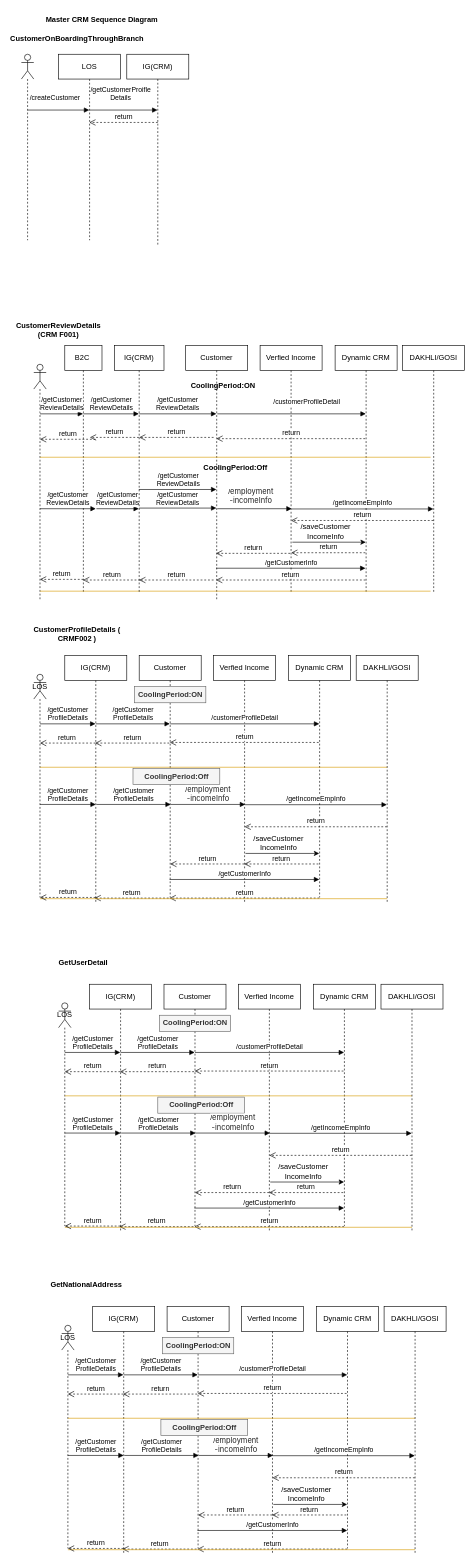
Some shapes in this 476 by 1566 pixel diagram are drawn without their labels. The box of each missing label's shape, as (x1, y1, x2, y2) in pixels:
CSR: (21, 54, 34, 240)
Mobile: (33, 364, 46, 600)
